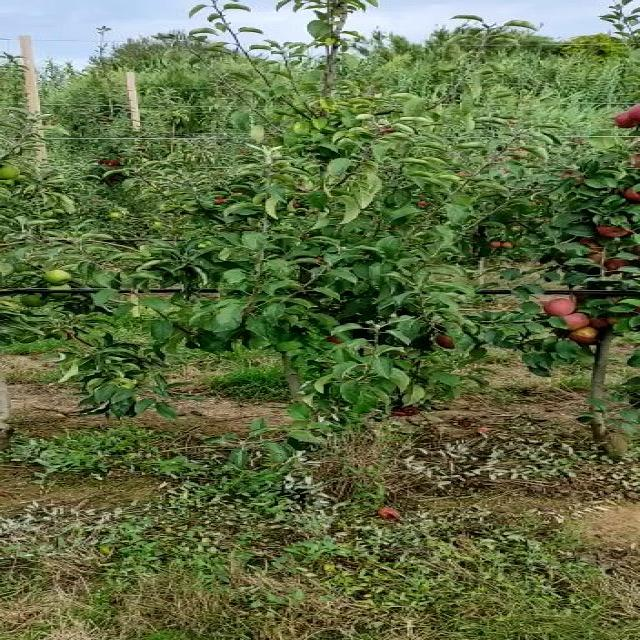100-_ripeness: (546, 296, 576, 317), (598, 222, 631, 237), (574, 241, 604, 257), (438, 331, 458, 350), (560, 314, 585, 329), (571, 329, 594, 345), (605, 256, 631, 270), (616, 113, 640, 127), (588, 317, 616, 329), (625, 185, 640, 207), (625, 102, 640, 120), (491, 241, 511, 246)
